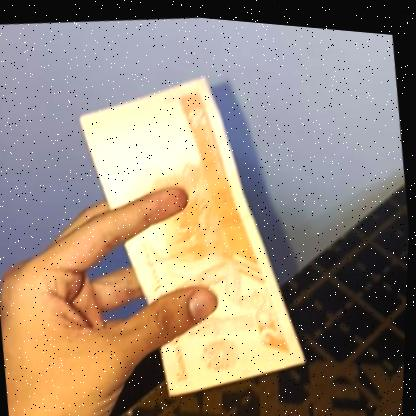vef_back: (63, 52, 322, 410)
